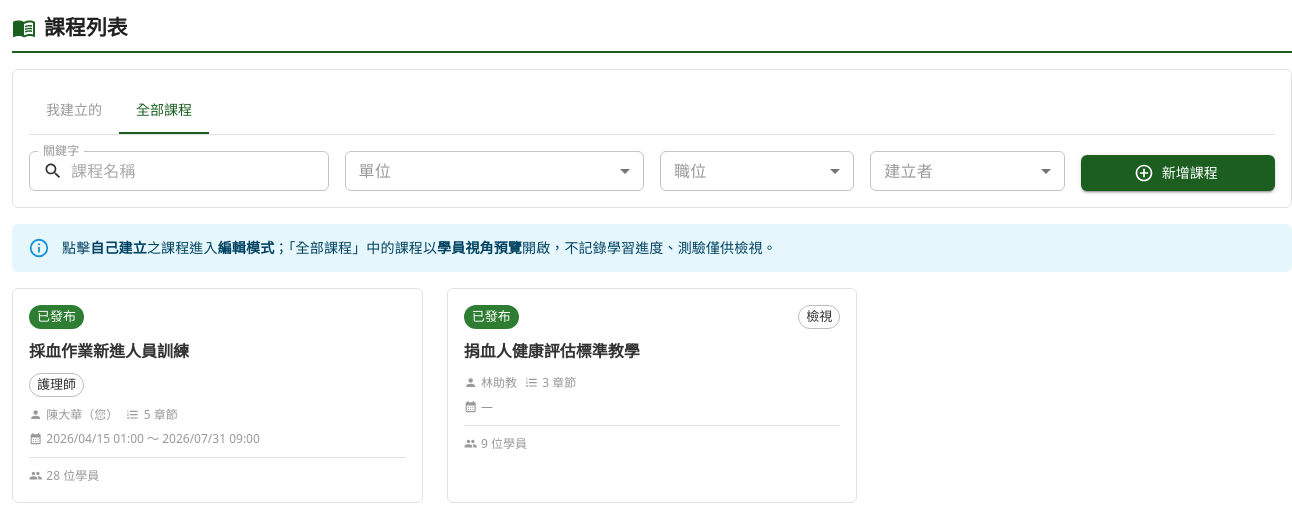
it: 課程列表：建立者下拉的選項來源（#648） › 列出不在當頁卡片中的建立者
The image size is (1292, 520).
Expected: the heading "採血作業新進人員訓練" is shown, [29, 340, 189, 362]
Expected: the text "王第二頁" is not shown
Click the dropdown named "建立者" next to "建立者". click: {"x": 967, "y": 171}
box: [870, 151, 1065, 191]
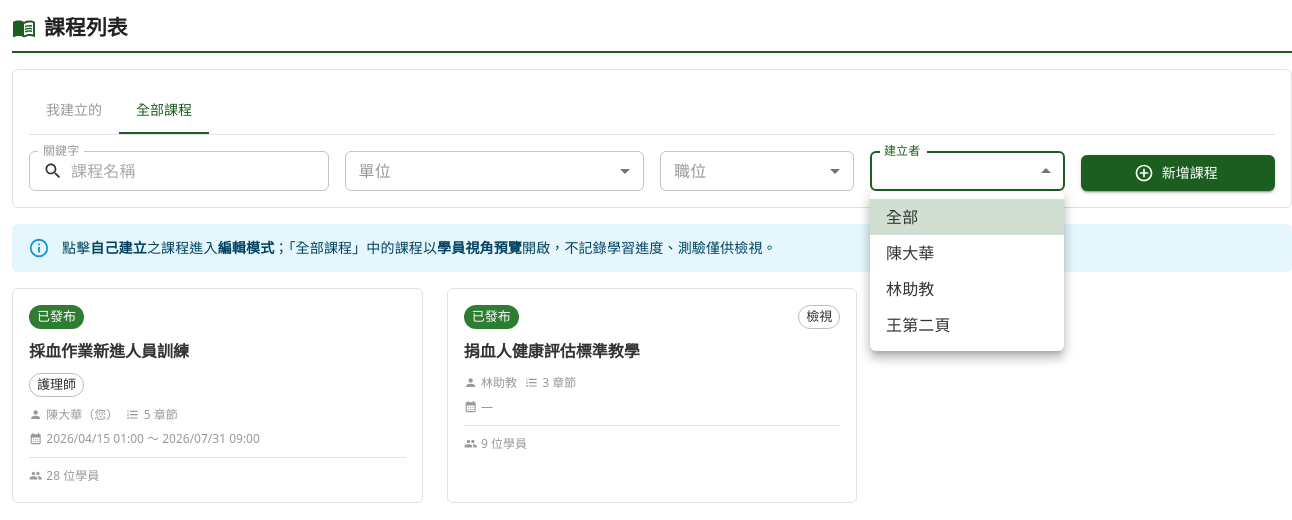
Expected: the option "王第二頁" is shown, [886, 314, 951, 336]
Expected: the option "陳大華" is shown, [886, 242, 934, 264]
